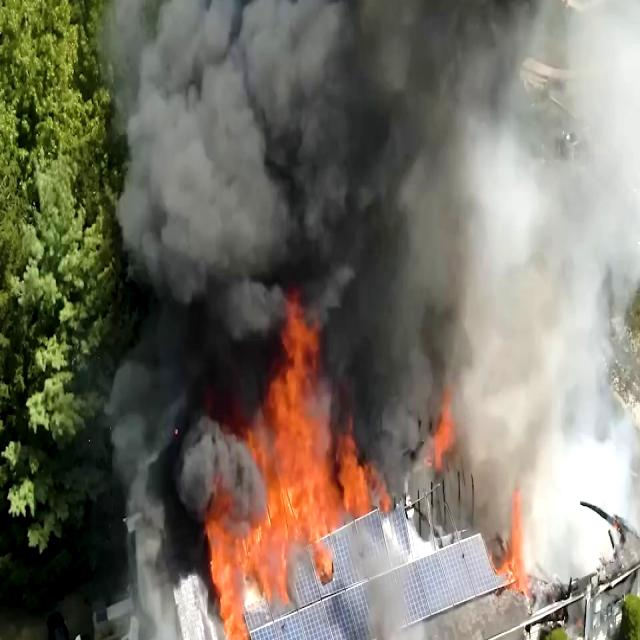fire: (180, 323, 382, 581)
smoke: (182, 0, 515, 282), (452, 0, 561, 479)
